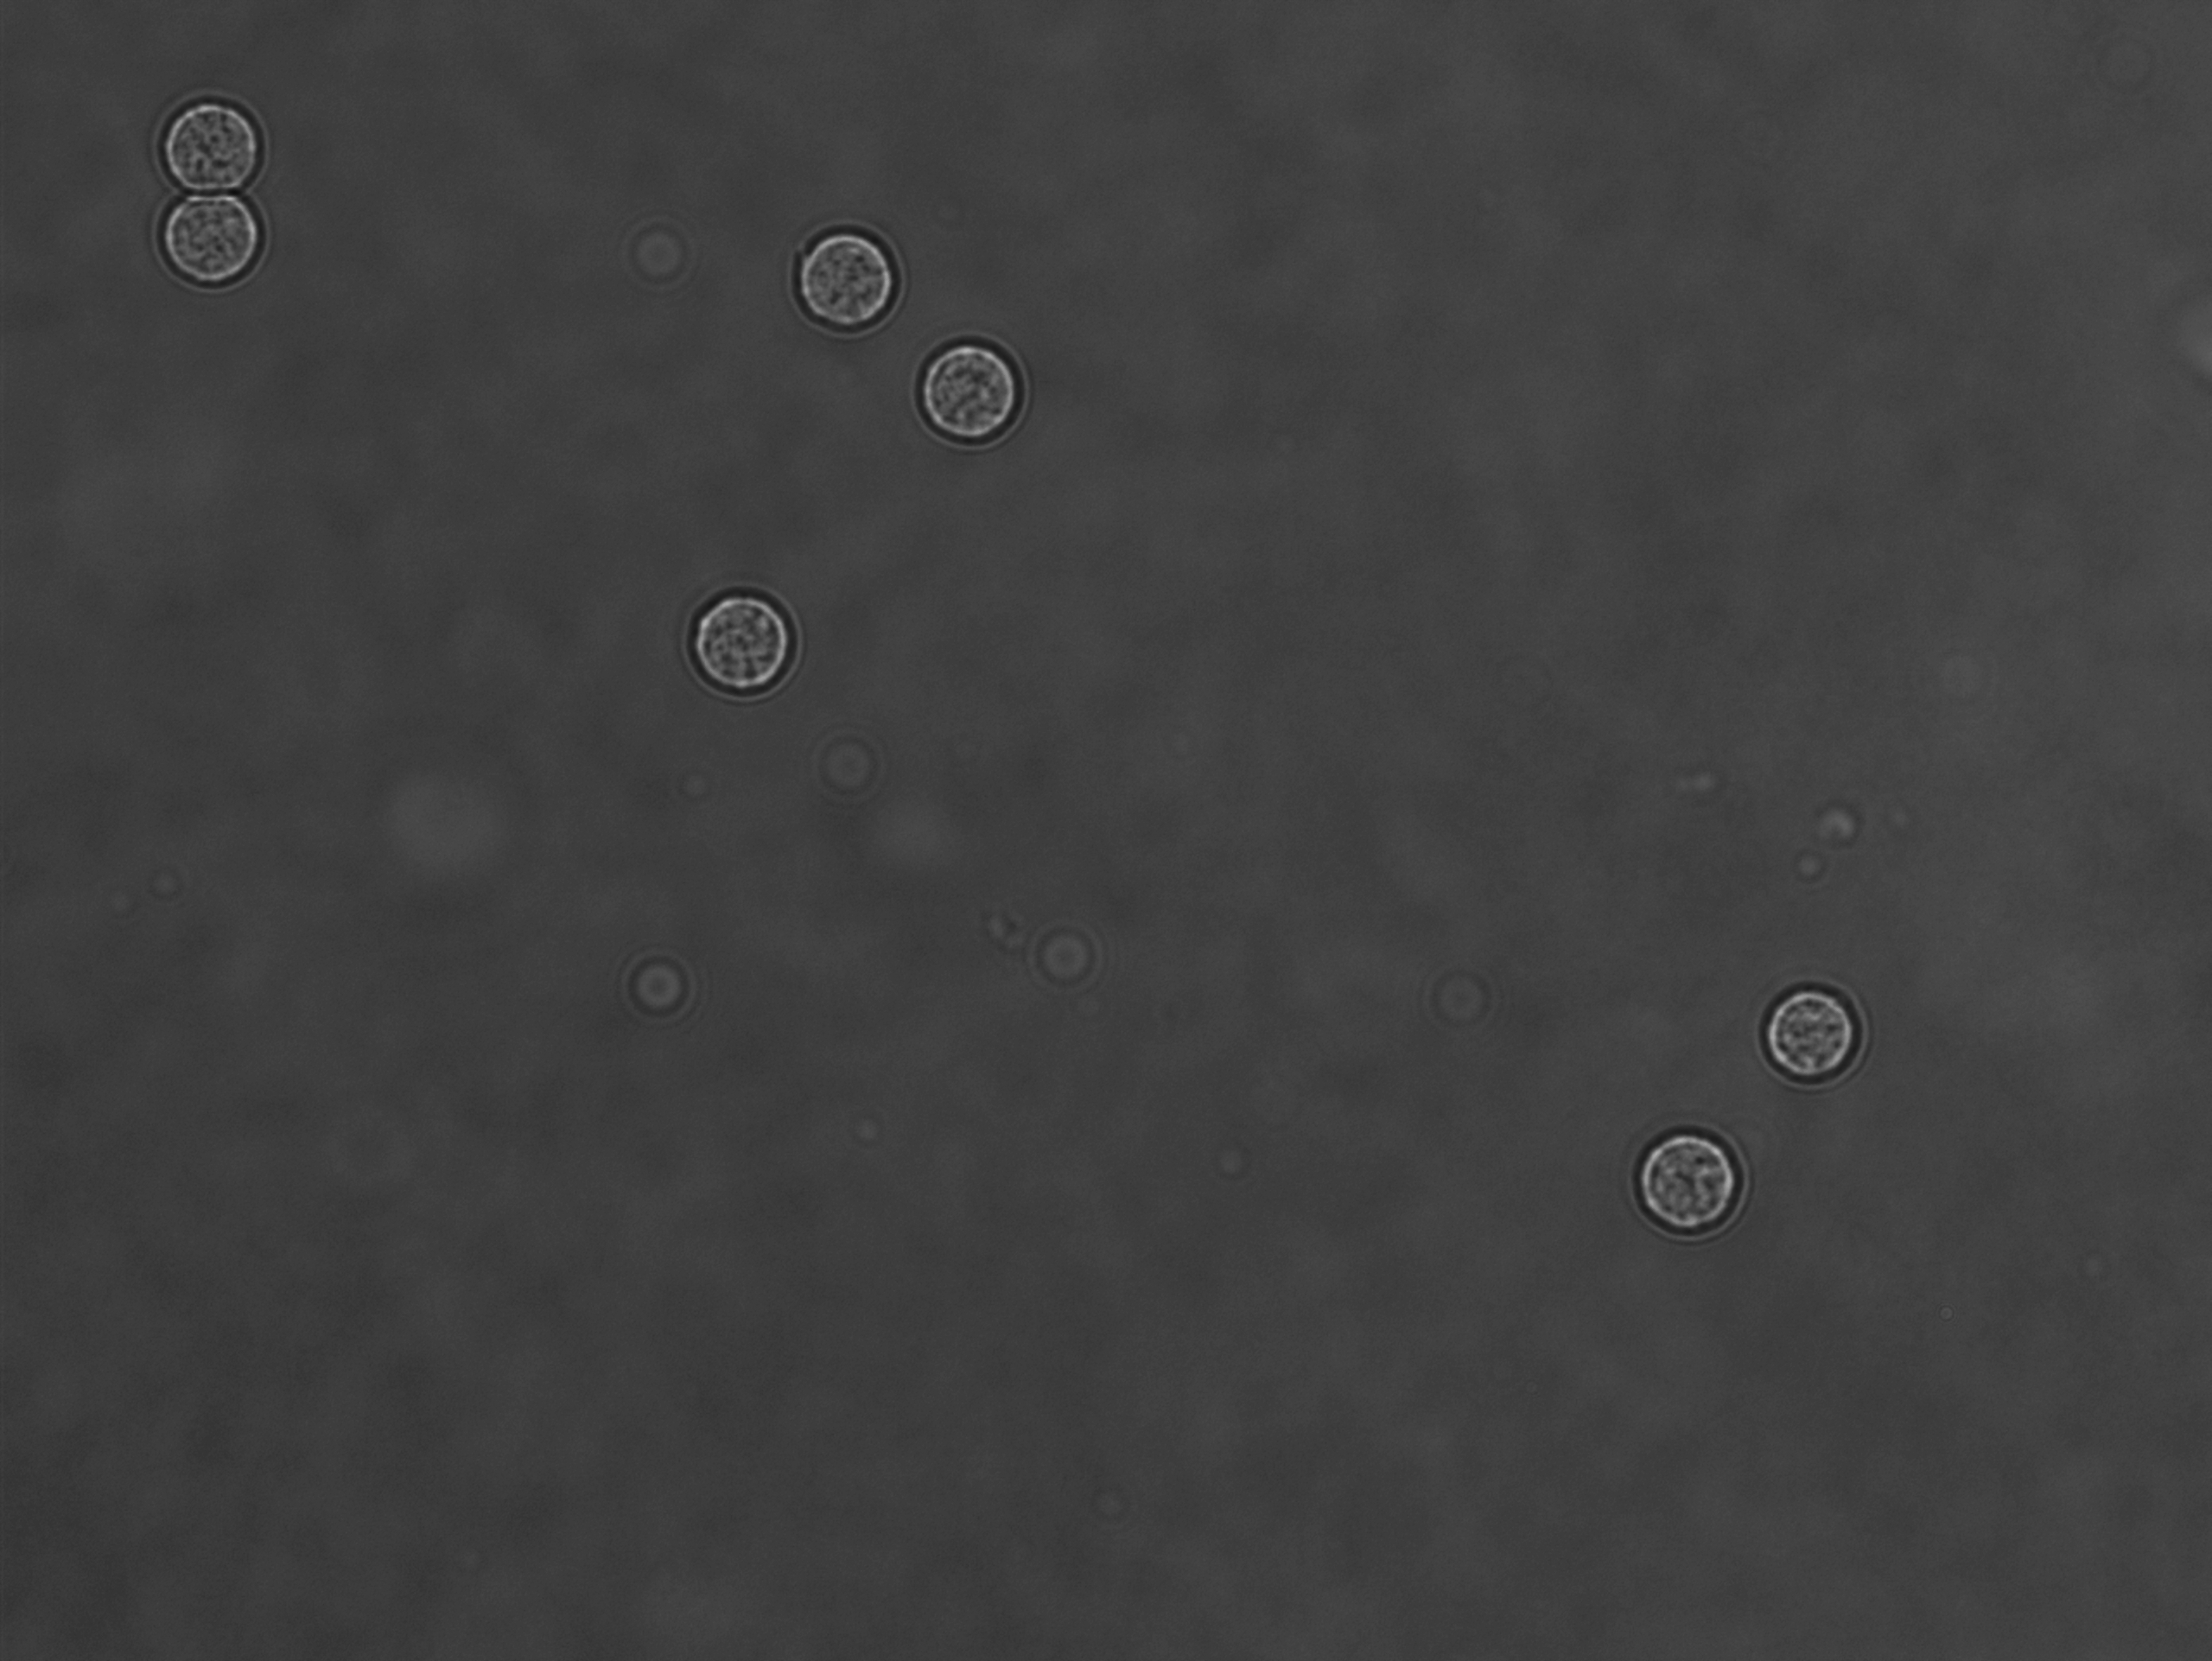depth:0: (1750, 932, 1908, 1108), (658, 562, 830, 721), (1615, 1101, 1772, 1249), (898, 298, 1038, 461), (131, 178, 286, 307), (775, 213, 914, 344), (154, 82, 297, 201)
